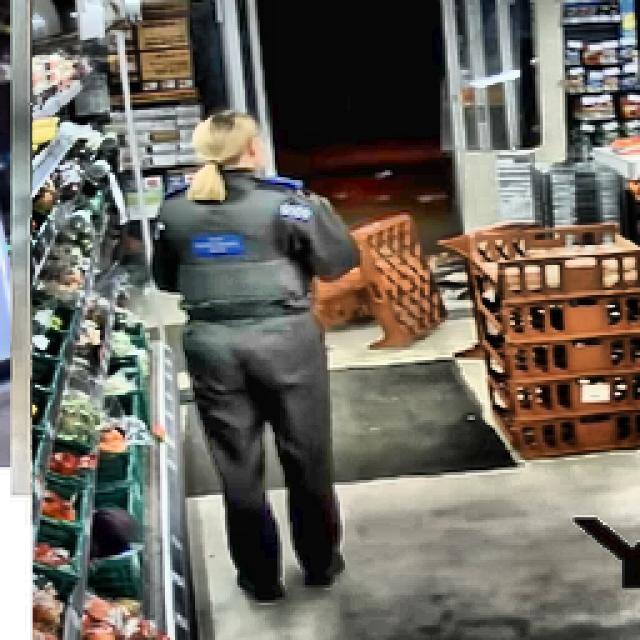Human: (145, 95, 360, 638)
